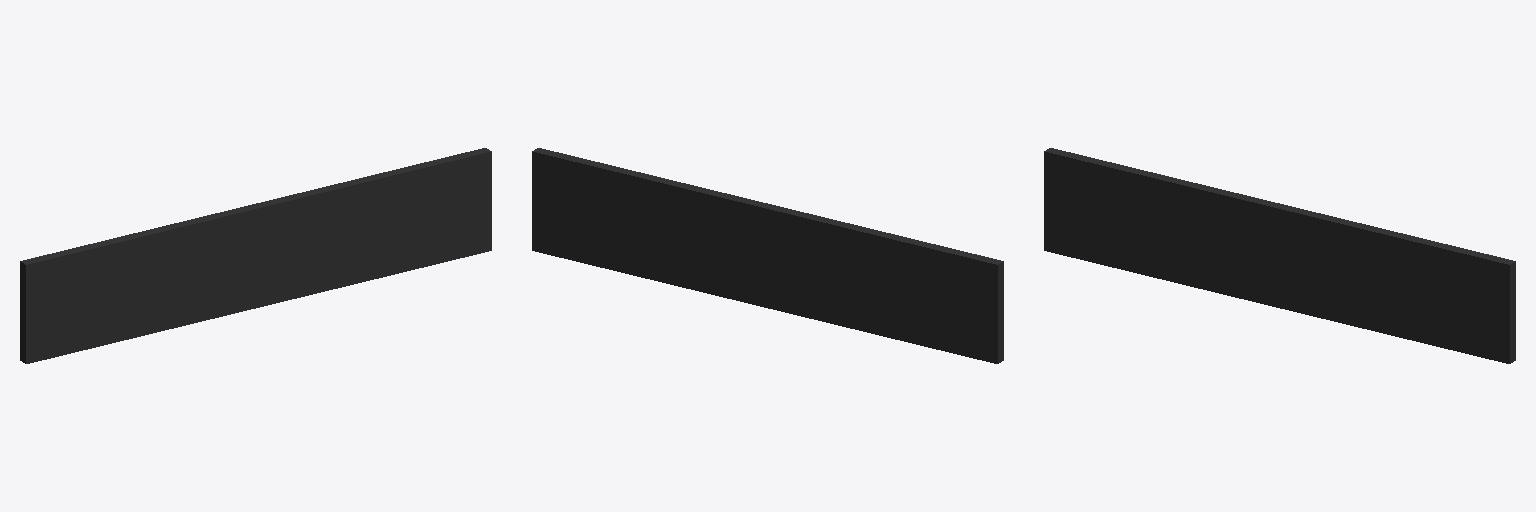
The robot description file, URDF, robot "wall":
<robot name="wall">
  <link name="baseLink">
   
    <inertial>
      <origin rpy="0 0 0" xyz="0 0 0" />
       <mass value="10" />
       <inertia ixx="0" ixy="0" ixz="0" iyy="0" iyz="0" izz="0" />
    </inertial>
    <visual>
      <origin rpy="0 0 0" xyz="0 0 0" />
      <geometry>
			  <box size="4.9 0.1 1" />
      </geometry>
       <material name="grey">
        <color rgba="0.24 0.24 0.24 1" />
      </material>
    </visual>
    <collision>
      <origin rpy="0 0 0" xyz="0 0 0" />
      <geometry>
	 	      <box size="4.9 0.1 1" />
      </geometry>
    </collision>
  </link>
</robot>

--- Render facts (derived) ---
3 views of the same robot in one strip: view 1: azimuth 30°, elevation 25°; view 2: azimuth 150°, elevation 25°; view 3: azimuth 330°, elevation 25° (orthographic).
Robot: wall — 1 links, 0 joints (none); root link baseLink; default pose: all joints at 0.
Visible links, largest first — view 1: baseLink; view 2: baseLink; view 3: baseLink.
Boxes of the visible links, x1,y1,x2,y2 form: baseLink: [20, 148, 491, 363]; baseLink: [532, 148, 1003, 363]; baseLink: [1044, 148, 1515, 363].
Size in the robot's own frame: 4.9 by 0.1 by 1 metres.
Geometry: primitives only (box / cylinder / sphere), no mesh files.
